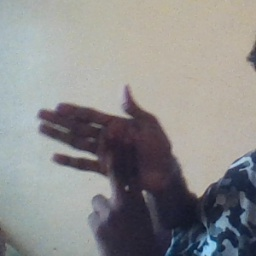N: (29, 79, 162, 227)
